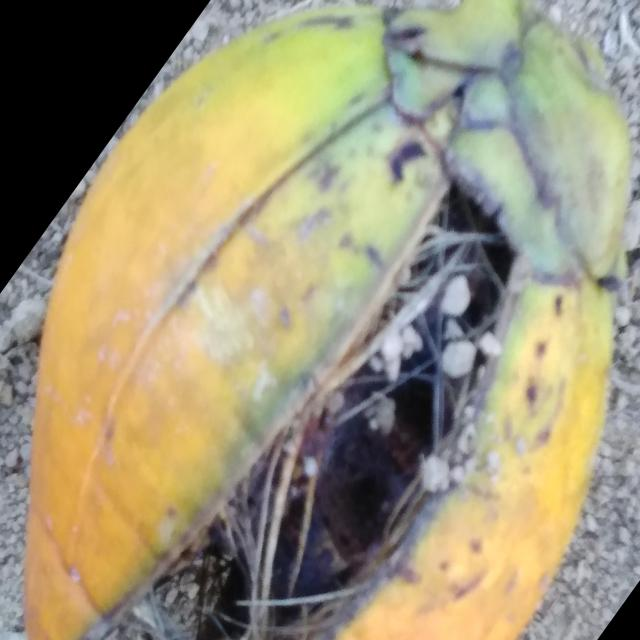damaged: (28, 10, 626, 639)
